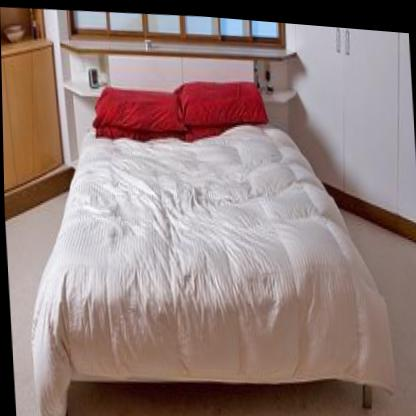Bed: (29, 76, 395, 416)
